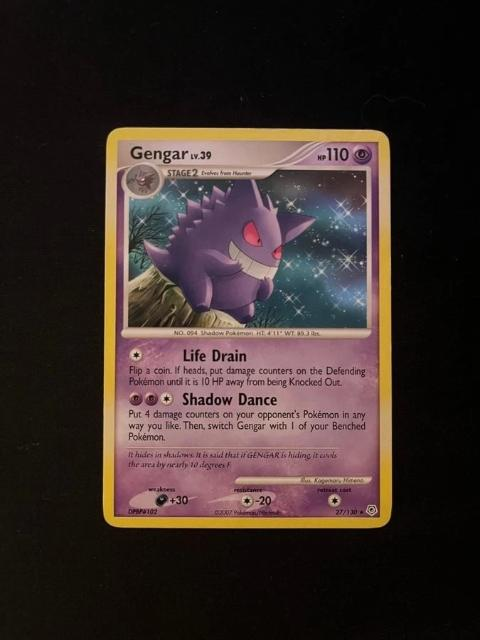Card: (98, 124, 397, 533)
Name: (126, 140, 191, 165)
